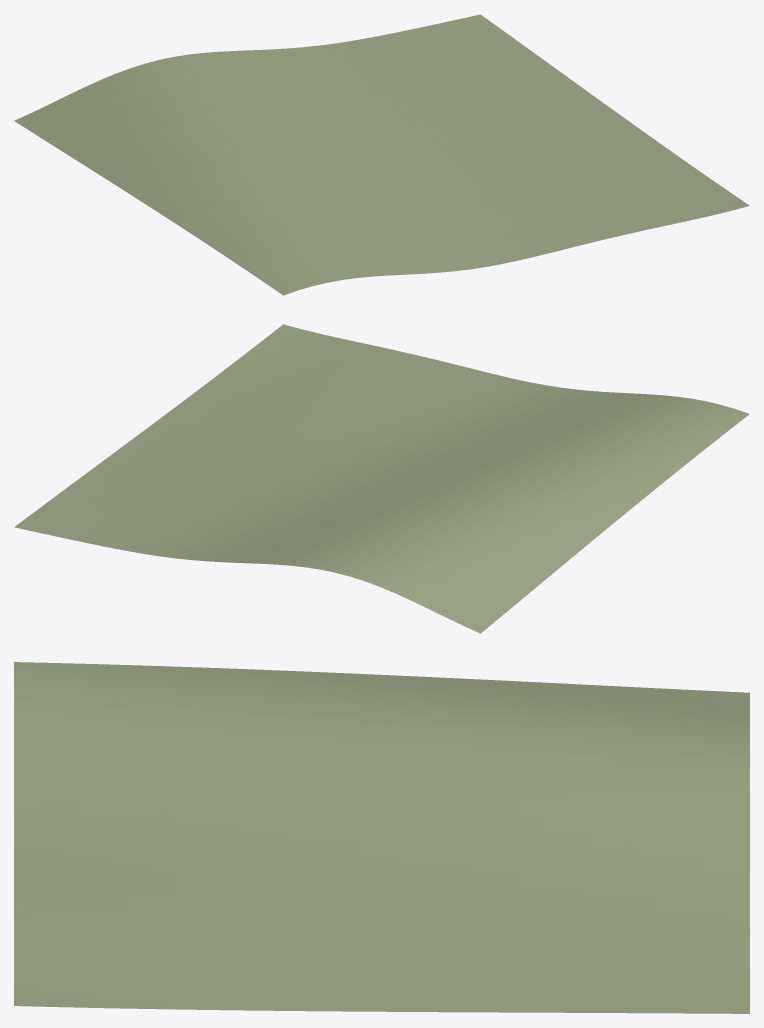
Rendered from desert-9-4.glb.
3 renders of one model, top to bottom at view 1: azimuth 30°, elevation 25°; view 2: azimuth 150°, elevation 25°; view 3: azimuth 270°, elevation 25°, orthographic. The views are drawn at different scales.
Visible parts, largest first — view 1: desert-9-4; view 2: desert-9-4; view 3: desert-9-4.
Part boxes in pixels (x1,y1,x2,y2): desert-9-4: [14, 14, 749, 295]; desert-9-4: [14, 324, 749, 633]; desert-9-4: [14, 662, 749, 1013].
Size of the model in its own units: 512 by 36.06 by 512.
